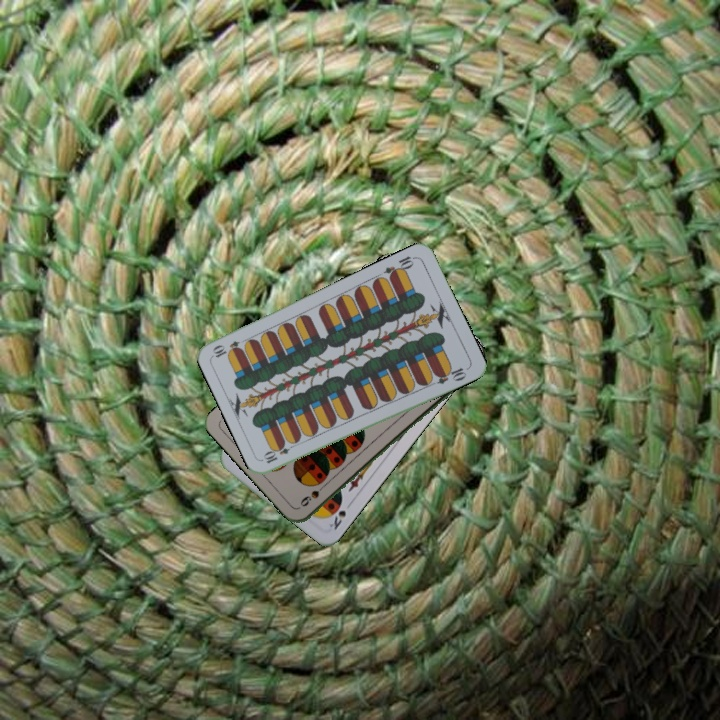E10: (380, 252, 419, 281), (260, 439, 299, 466)
S9: (296, 479, 330, 509)
SK: (325, 497, 355, 533)
